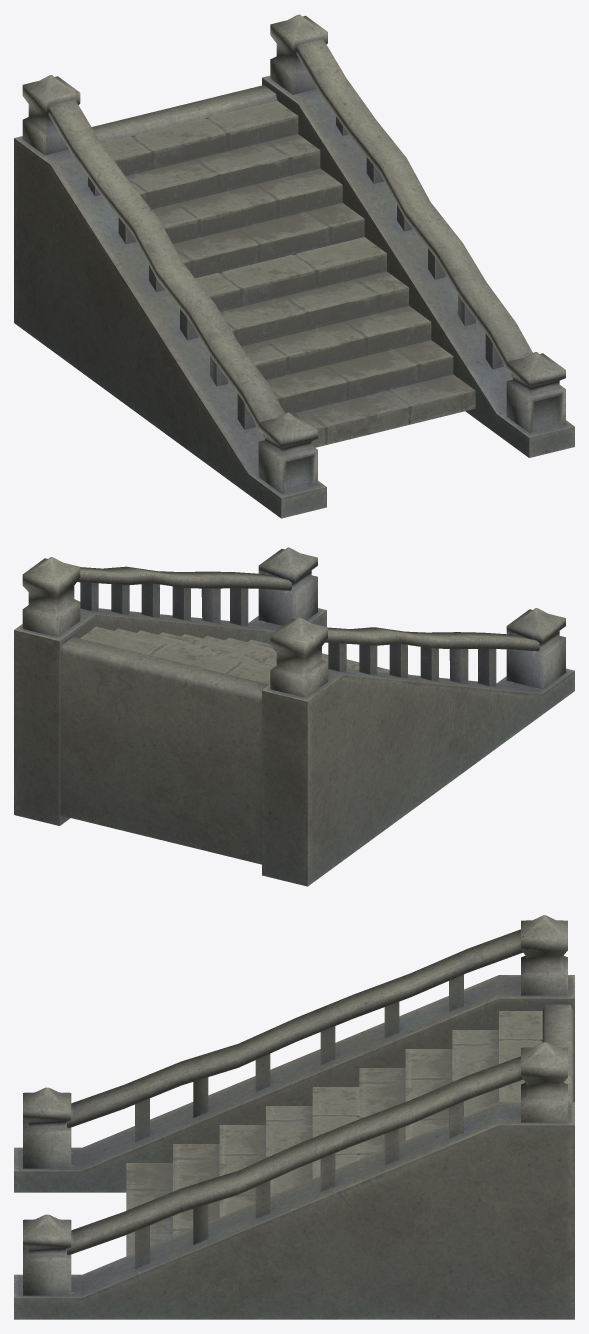
Rendered from AD_Stair_A_01.fbx.
3 views of the same model, one above another, from view 1: azimuth 30°, elevation 25°; view 2: azimuth 150°, elevation 25°; view 3: azimuth 270°, elevation 25° (orthographic). The views are drawn at different scales.
Visible parts, largest first — view 1: AD_Stair_A_01; view 2: AD_Stair_A_01; view 3: AD_Stair_A_01.
Boxes of the visible parts, x1=… form: AD_Stair_A_01: x1=14, y1=14, x2=574, y2=518; AD_Stair_A_01: x1=14, y1=547, x2=574, y2=886; AD_Stair_A_01: x1=14, y1=915, x2=574, y2=1319.
Size of the model in its own units: 849 by 697 by 1339.
Materials: 2 (2 with a texture image).
